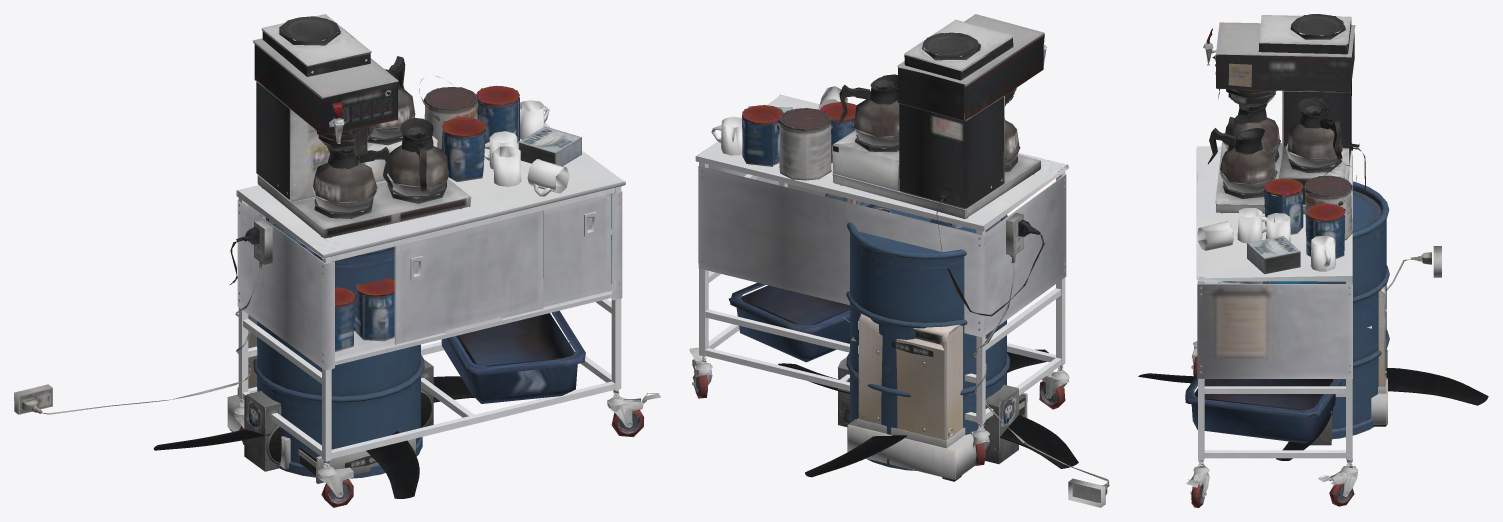
Rendered from ph_store.glb.
3 renders of one model, left to right at view 1: azimuth 30°, elevation 25°; view 2: azimuth 150°, elevation 25°; view 3: azimuth 270°, elevation 25°, orthographic. The views are drawn at different scales.
Parts seen in each view (by area): view 1: CoffeeCart_01, barrel_03, ceiling_fan, boombox, CashRegister_01; view 2: CoffeeCart_01, barrel_03, CashRegister_01, ceiling_fan, boombox; view 3: CoffeeCart_01, barrel_03, ceiling_fan, CashRegister_01.
Boxes of the visible parts, <box> form: CoffeeCart_01: <box>14,14,660,507</box>; barrel_03: <box>253,215,424,478</box>; ceiling_fan: <box>153,376,474,498</box>; boombox: <box>244,359,433,471</box>; CashRegister_01: <box>227,315,415,483</box>; CoffeeCart_01: <box>689,14,1109,507</box>; barrel_03: <box>846,202,1010,470</box>; CashRegister_01: <box>847,313,1027,481</box>; ceiling_fan: <box>778,349,1078,477</box>; boombox: <box>838,317,1018,464</box>; CoffeeCart_01: <box>1185,14,1441,507</box>; barrel_03: <box>1320,181,1389,439</box>; ceiling_fan: <box>1138,368,1488,460</box>; CashRegister_01: <box>1367,285,1387,426</box>.
Bounding box in the file's own units: 2.17 × 1.72 × 1.46.
28 materials, 27 textured.
